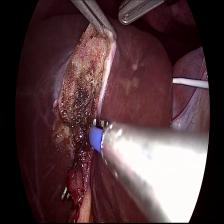Bipolar: (81, 111, 124, 167)
Grasper: (59, 0, 117, 44), (118, 1, 165, 29)
